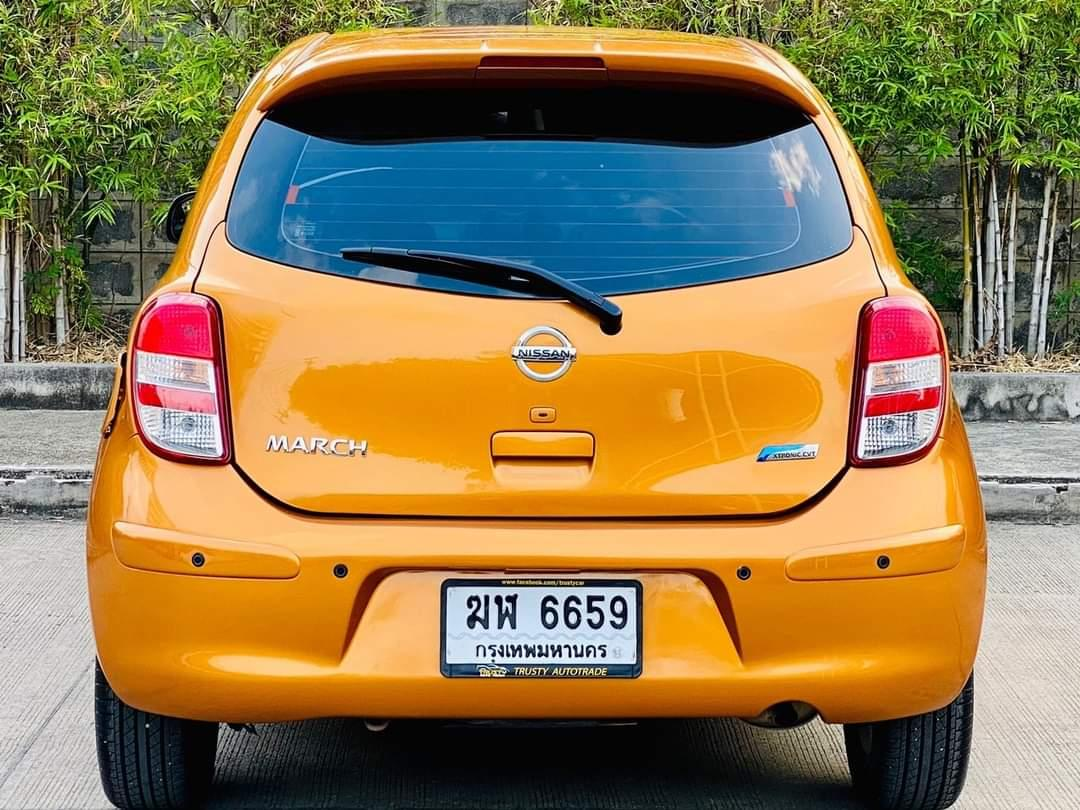license-plate: (439, 577, 644, 682)
